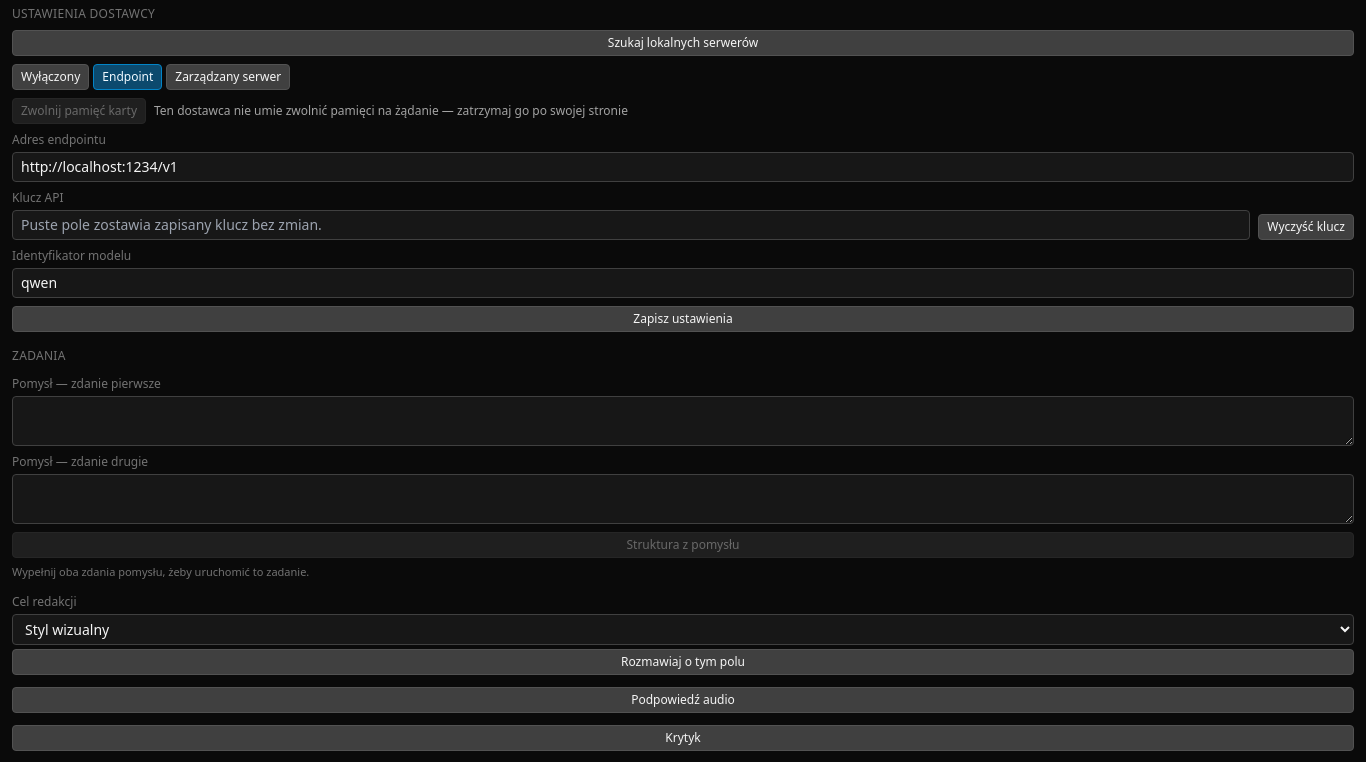
Test case: LlmPanel — uruchamianie zadań: kliknięcie woła trasę z właściwym rodzajem › otwarcie rozmowy nie woła jeszcze modelu
This screenshot has width=1366, height=762.
Click the button "Rozmawiaj o tym polu".
click(683, 662)  # box [12,649,1354,675]
(page scrolled)
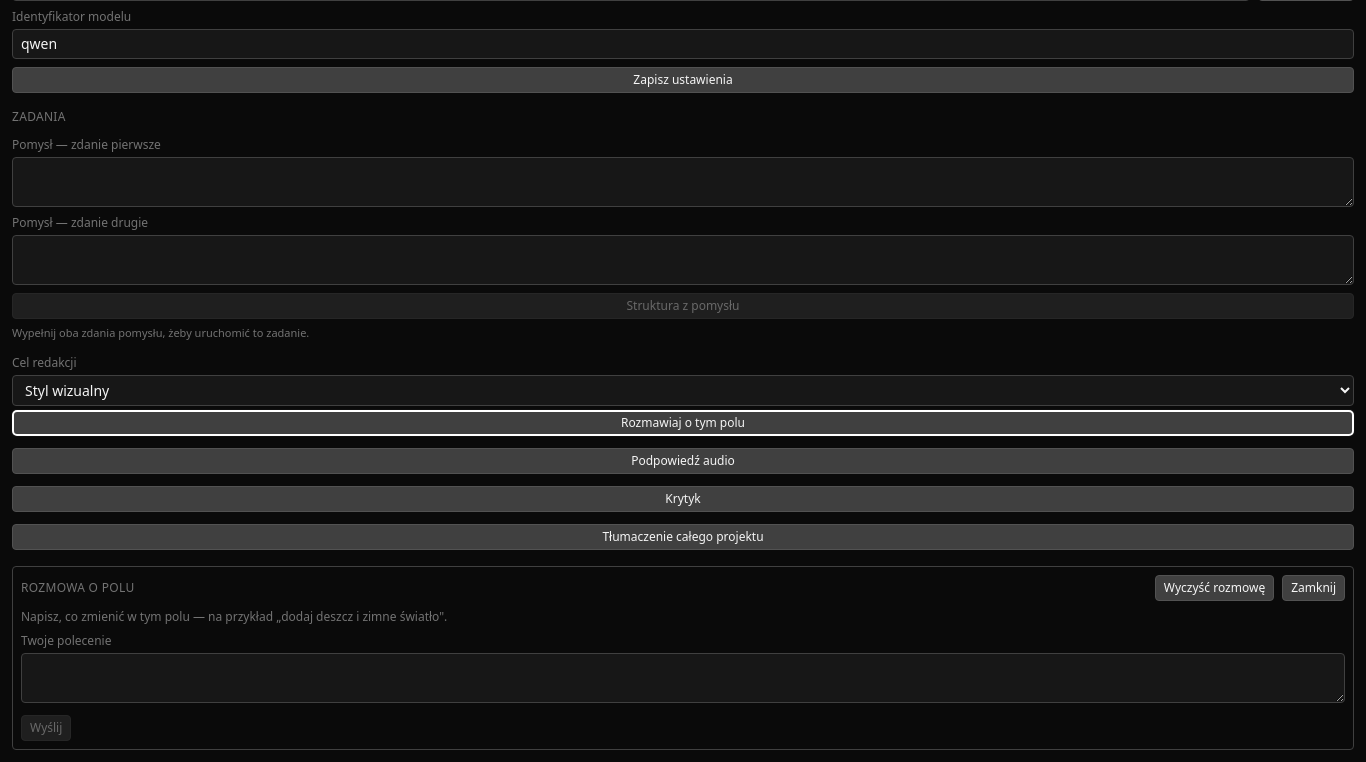
expect the dialog "Rozmowa o polu" is shown: met, box [12,566,1354,750]
